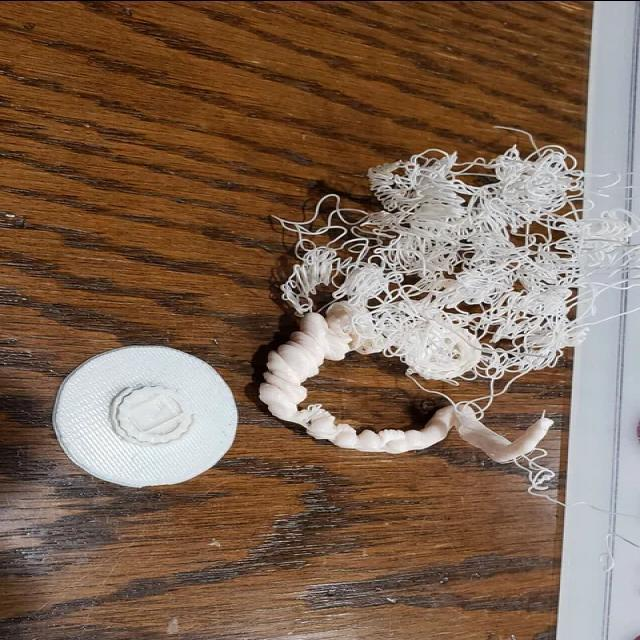spaghetti: (386, 140, 582, 285), (285, 225, 399, 309), (485, 292, 573, 368), (398, 313, 489, 373), (578, 213, 638, 293)
